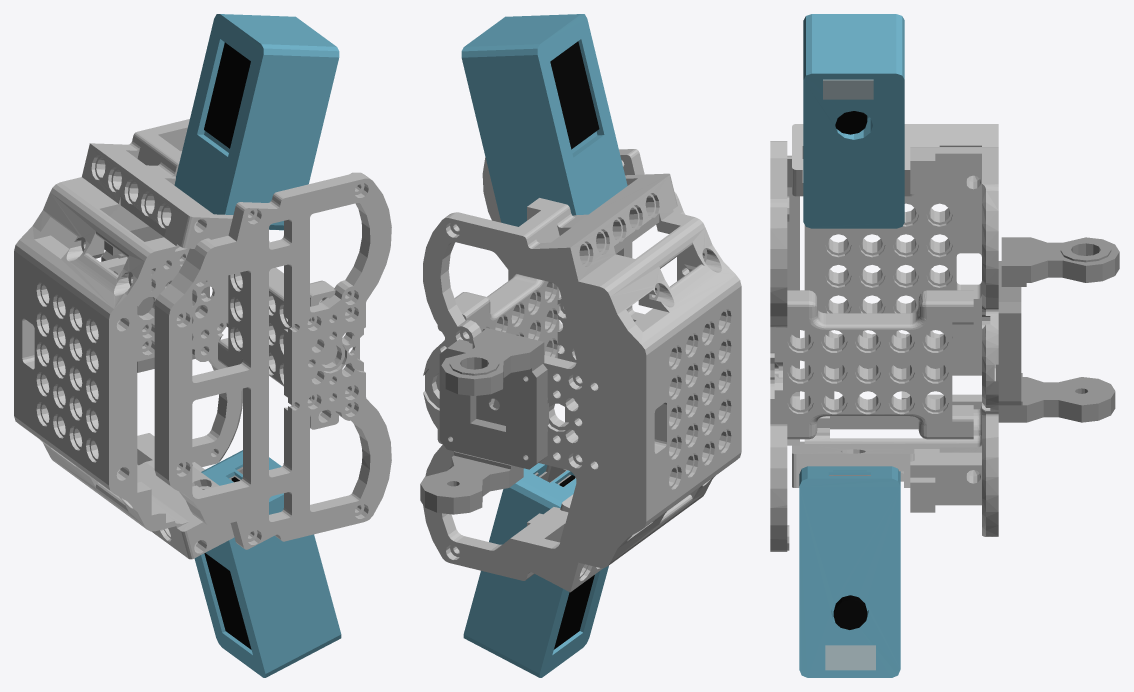
File: head-neck-p.glb
3 views of the same model, side by side, from view 1: azimuth 30°, elevation 25°; view 2: azimuth 150°, elevation 25°; view 3: azimuth 270°, elevation 25° (orthographic). The views are drawn at different scales.
Bounding box in the file's own units: 0.0747 × 0.1694 × 0.0828.
